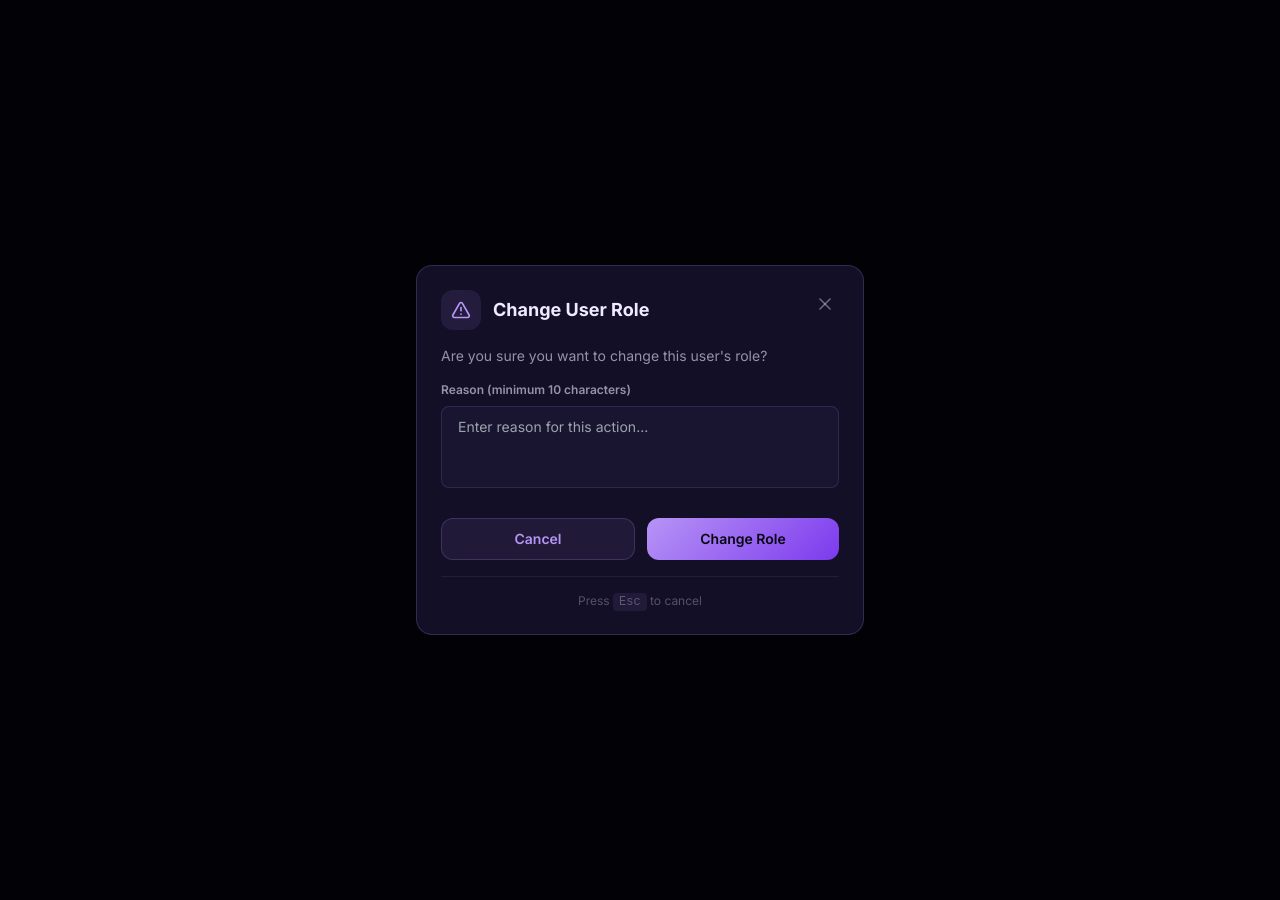
ConfirmationDialog - Reason Validation Integration › should require reason input with minimum 10 characters
Check: the text box with placeholder "Enter reason for this action..." is shown, box top-left (441, 406), bottom-right (839, 488)
Note: Try to confirm without entering reason
Click the button "Change Role" at (743, 539), box top-left (647, 518), bottom-right (839, 560)
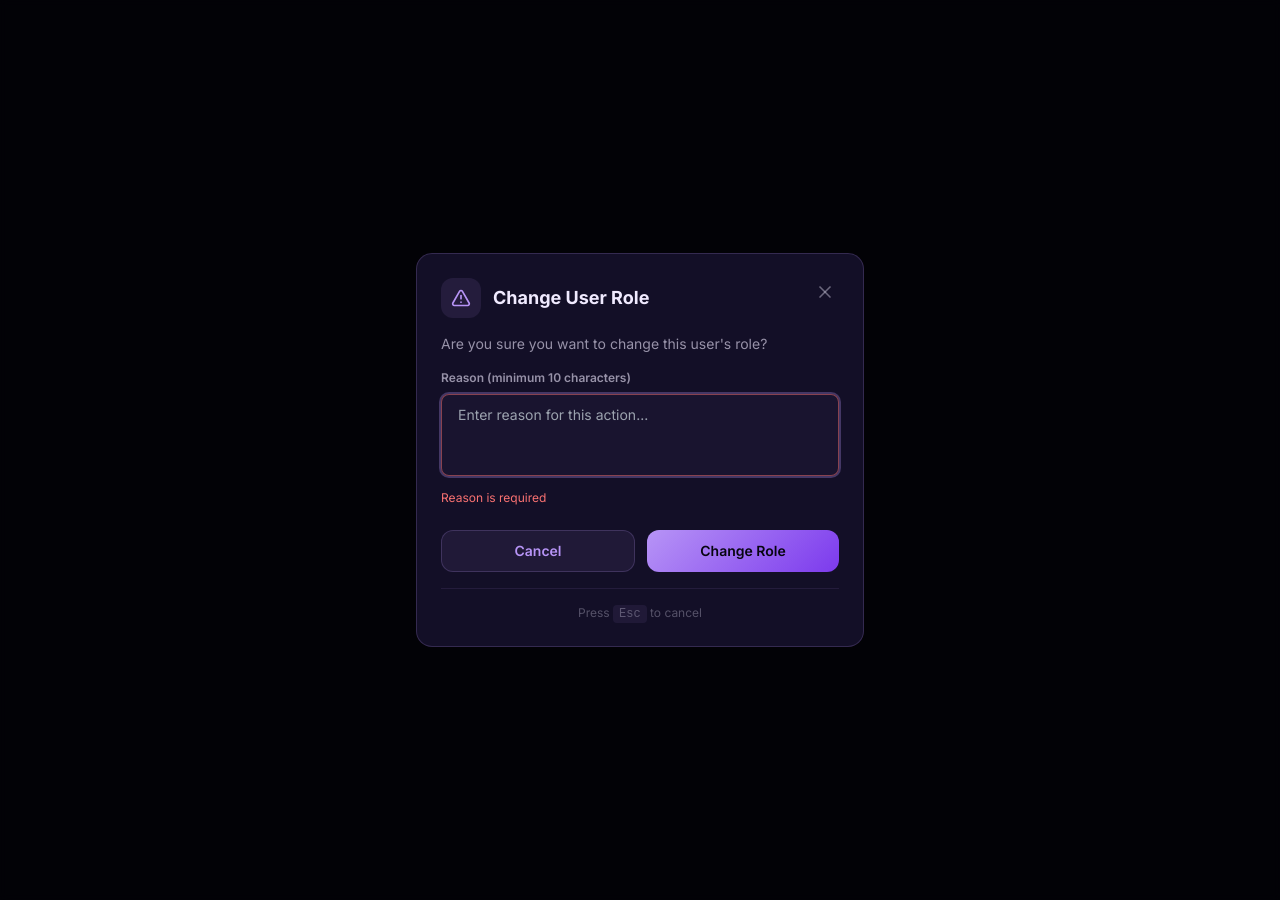
Check: the text "Reason is required" is shown, box top-left (441, 490), bottom-right (546, 505)
